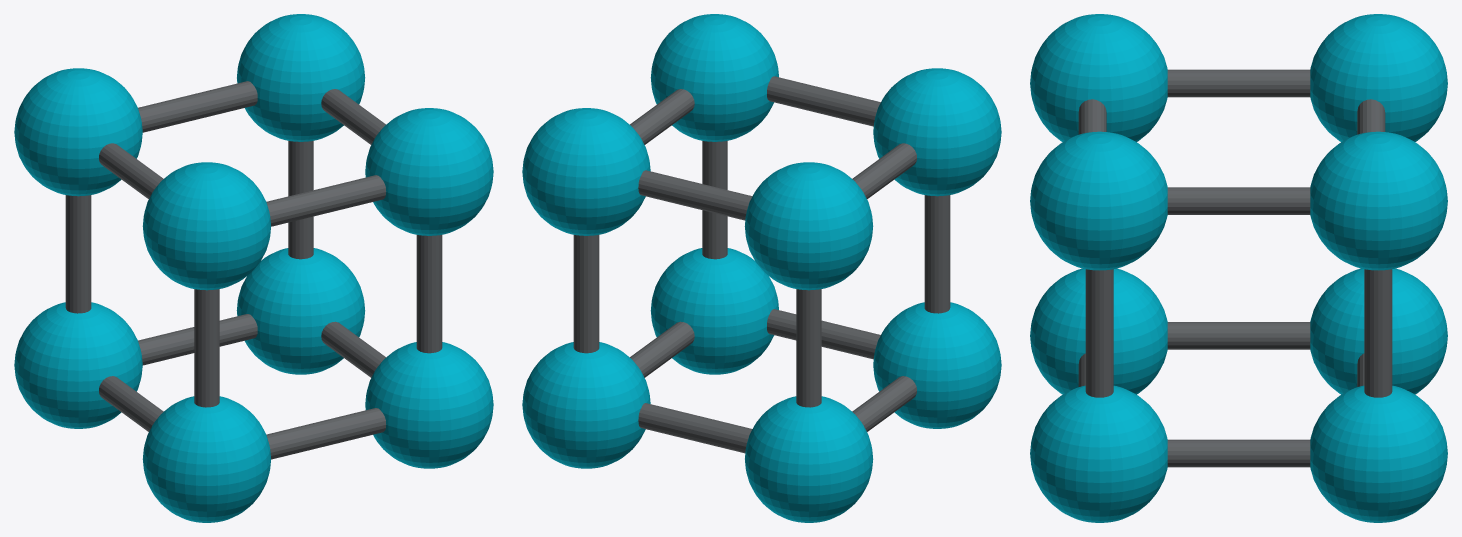
Rendered from estrutura01.glb.
3 views of the same model, side by side, from view 1: azimuth 30°, elevation 25°; view 2: azimuth 150°, elevation 25°; view 3: azimuth 270°, elevation 25° (orthographic). The views are drawn at different scales.
Parts seen in each view (by area): view 1: Mesh_Mesh_head_geo.001_lambert2SG.001; view 2: Mesh_Mesh_head_geo.001_lambert2SG.001; view 3: Mesh_Mesh_head_geo.001_lambert2SG.001.
Boxes of the visible parts, x1,y1,x2,y2 form: Mesh_Mesh_head_geo.001_lambert2SG.001: (14, 14, 493, 522); Mesh_Mesh_head_geo.001_lambert2SG.001: (522, 14, 1001, 522); Mesh_Mesh_head_geo.001_lambert2SG.001: (1030, 14, 1447, 522).
Bounding box in the file's own units: 30 × 30 × 30.
